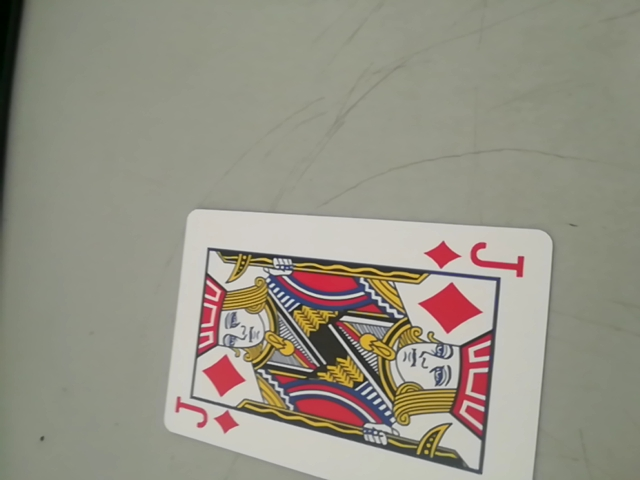fk j: (427, 236, 532, 278), (172, 397, 243, 440)
